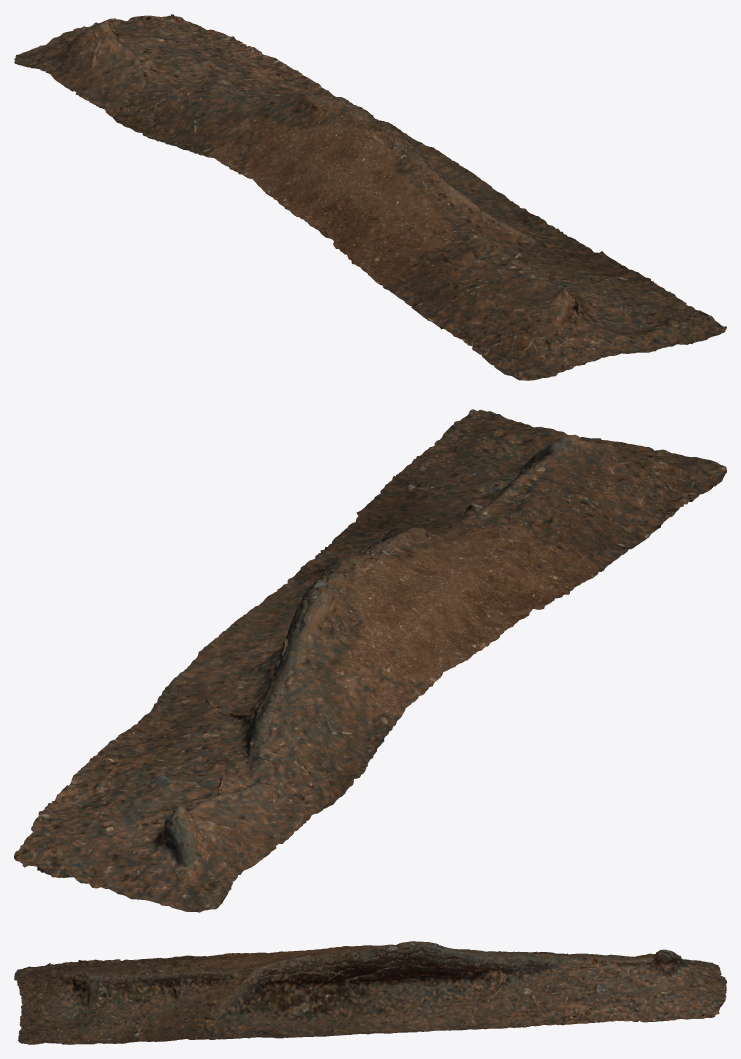
The model's file is prop_root.glb.
3 renders of one model, top to bottom at view 1: azimuth 30°, elevation 25°; view 2: azimuth 150°, elevation 25°; view 3: azimuth 270°, elevation 25°, orthographic. The views are drawn at different scales.
Parts seen in each view (by area): view 1: single_root; view 2: single_root; view 3: single_root.
Boxes of the visible parts, x1=… form: single_root: x1=14, y1=14, x2=726, y2=380; single_root: x1=14, y1=409, x2=726, y2=912; single_root: x1=14, y1=941, x2=726, y2=1044.
Bounding box in the file's own units: 0.5552 × 0.178 × 1.84.
1 material, 1 textured.
